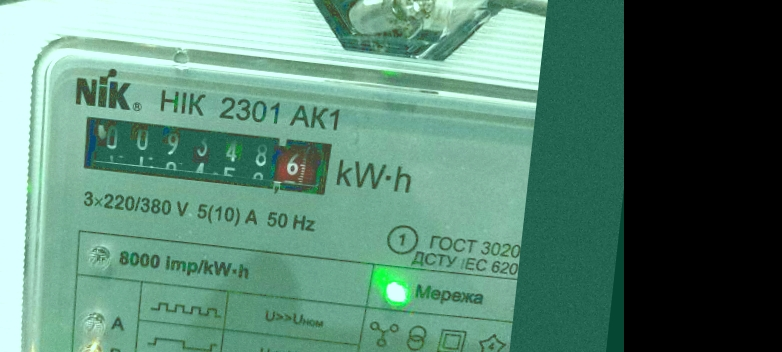0: (102, 123, 121, 151), (133, 124, 150, 151)
3: (194, 131, 211, 158)
4: (221, 132, 242, 164)
6: (282, 147, 303, 178)
8: (252, 139, 270, 168)
9: (164, 130, 181, 159)
screen: (62, 100, 347, 207)
